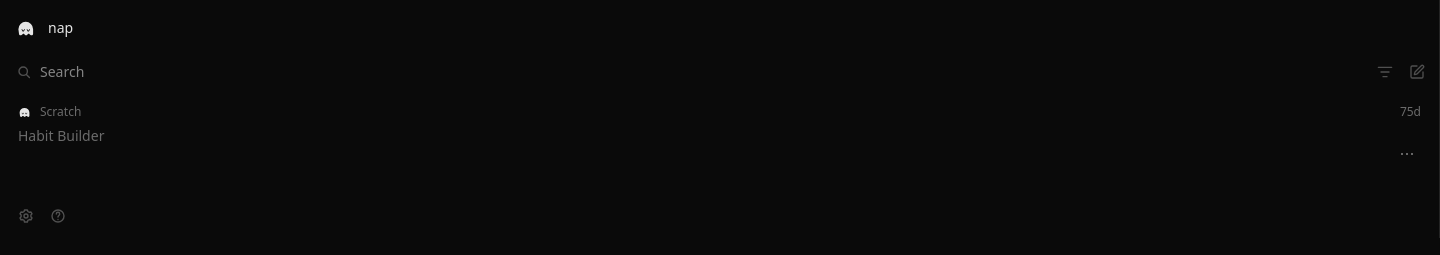
Test: the dashboard sidebar › shows which key is in use, so nobody has to open it to find out
This screenshot has width=1440, height=255.
Click the button named "Settings" at {"x": 26, "y": 216}, box [12,202,40,230]
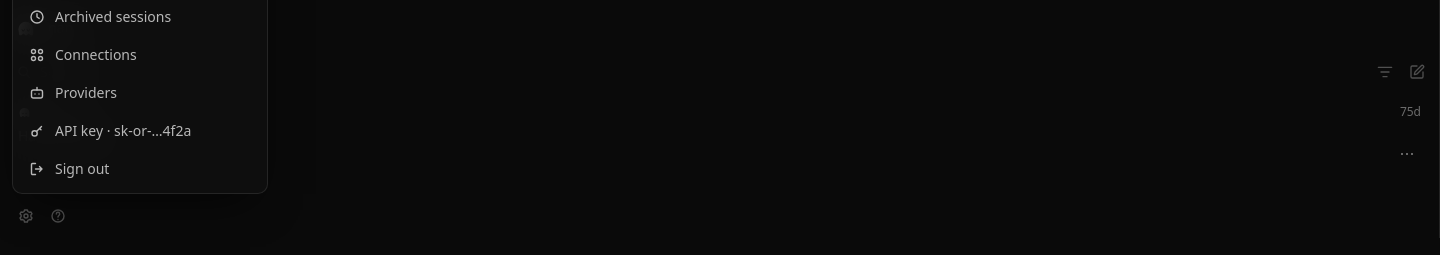
Expected: the menu item "API key · sk-or-…4f2a" is shown, [19,113,261,149]
